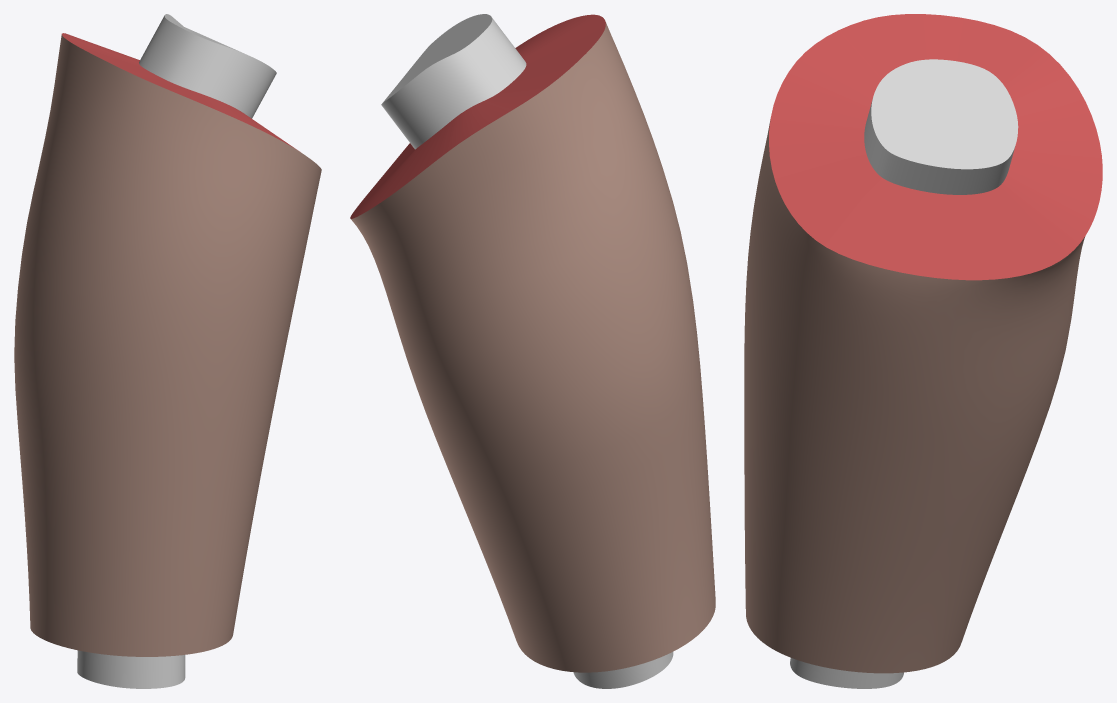
The picture shows the model from 3 angles, left to right: view 1: azimuth 30°, elevation 25°; view 2: azimuth 150°, elevation 25°; view 3: azimuth 270°, elevation 25°; orthographic projection. The views are drawn at different scales.
Parts seen in each view (by area): view 1: polySurface41; view 2: polySurface41; view 3: polySurface41.
Part boxes in pixels (<box>): polySurface41: <box>14,14,321,688</box>; polySurface41: <box>350,14,715,688</box>; polySurface41: <box>744,14,1102,688</box>.
Bounding box in the file's own units: 4 × 8.74 × 4.29.
